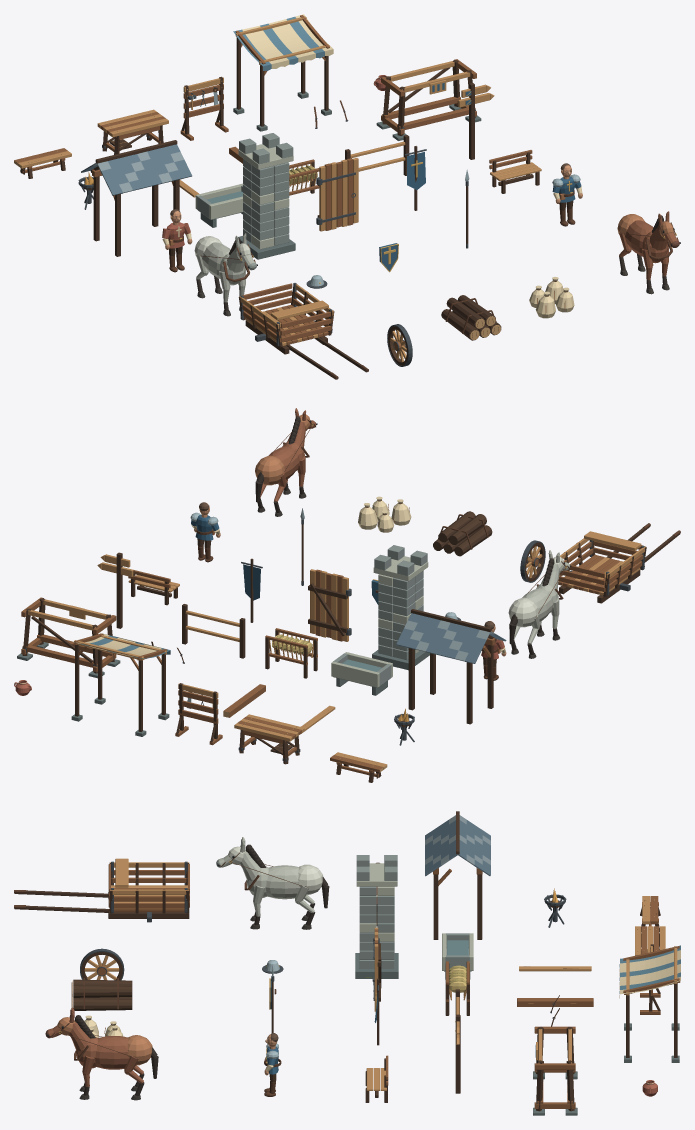
Rendered from MedievalLife_All30.glb.
3 views of the same model, one above another, from view 1: azimuth 30°, elevation 25°; view 2: azimuth 150°, elevation 25°; view 3: azimuth 270°, elevation 25° (orthographic). The views are drawn at different scales.
Visible parts, largest first — view 1: LIB__MedievalLife__gate_pier__structure, LIB__MedievalLife__cart_body__structure, LIB__FreightKit__freight_depot_rack__structure, LIB__MedievalLife__watch_shelter__finish, LIB__MarketLifeKit__linen_canopy__cover, LIB__MedievalLife__gate_leaf__structure, LIB__MedievalLife__horse_bay__structure, LIB__MedievalLife__horse_grey__structure, LIB__MarketLifeKit__linen_canopy__structure, LIB__MedievalLife__watch_shelter__structure, LIB__MarketLifeKit__work_table__structure, LIB__MarketLifeKit__tool_rack__structure (+13 smaller); view 2: LIB__MedievalLife__gate_pier__structure, LIB__MedievalLife__cart_body__structure, LIB__FreightKit__freight_depot_rack__structure, LIB__MedievalLife__watch_shelter__finish, LIB__MedievalLife__gate_leaf__structure, LIB__MarketLifeKit__linen_canopy__structure, LIB__MedievalLife__horse_grey__structure, LIB__MedievalLife__horse_bay__structure, LIB__MedievalLife__watch_shelter__structure, LIB__MarketLifeKit__work_table__structure, LIB__MedievalLife__water_trough__structure, LIB__MedievalLife__cargo_logs__structure (+11 smaller); view 3: LIB__MedievalLife__cart_body__structure, LIB__MedievalLife__gate_pier__structure, LIB__MedievalLife__horse_grey__structure, LIB__MedievalLife__horse_bay__structure, LIB__MedievalLife__watch_shelter__finish, LIB__FreightKit__freight_depot_rack__structure, LIB__MedievalLife__cargo_logs__structure, LIB__MarketLifeKit__linen_canopy__cover, LIB__MarketLifeKit__linen_canopy__structure, LIB__MedievalLife__watch_shelter__structure, LIB__MedievalLife__water_trough__structure, LIB__MarketLifeKit__work_table__structure (+9 smaller).
Part boxes in pixels (x1=…): LIB__MedievalLife__gate_pier__structure: x1=238, y1=133, x2=295, y2=259; LIB__MedievalLife__cart_body__structure: x1=238, y1=283, x2=366, y2=379; LIB__FreightKit__freight_depot_rack__structure: x1=376, y1=59, x2=481, y2=140; LIB__MedievalLife__watch_shelter__finish: x1=81, y1=144, x2=192, y2=195; LIB__MarketLifeKit__linen_canopy__cover: x1=233, y1=14, x2=333, y2=70; LIB__MedievalLife__gate_leaf__structure: x1=317, y1=157, x2=358, y2=231; LIB__MedievalLife__horse_bay__structure: x1=617, y1=211, x2=678, y2=289; LIB__MedievalLife__horse_grey__structure: x1=194, y1=233, x2=255, y2=311; LIB__MarketLifeKit__linen_canopy__structure: x1=233, y1=15, x2=331, y2=131; LIB__MedievalLife__watch_shelter__structure: x1=90, y1=140, x2=179, y2=256; LIB__MarketLifeKit__work_table__structure: x1=97, y1=109, x2=168, y2=154; LIB__MarketLifeKit__tool_rack__structure: x1=180, y1=76, x2=228, y2=140; LIB__MedievalLife__gate_pier__structure: x1=372, y1=545, x2=429, y2=670; LIB__MedievalLife__cart_body__structure: x1=558, y1=524, x2=679, y2=603; LIB__FreightKit__freight_depot_rack__structure: x1=17, y1=597, x2=120, y2=678; LIB__MedievalLife__watch_shelter__finish: x1=396, y1=613, x2=506, y2=663; LIB__MedievalLife__gate_leaf__structure: x1=308, y1=569, x2=348, y2=641; LIB__MarketLifeKit__linen_canopy__structure: x1=71, y1=633, x2=169, y2=736; LIB__MedievalLife__horse_grey__structure: x1=508, y1=550, x2=569, y2=654; LIB__MedievalLife__horse_bay__structure: x1=255, y1=408, x2=315, y2=512; LIB__MedievalLife__watch_shelter__structure: x1=408, y1=609, x2=496, y2=724; LIB__MarketLifeKit__work_table__structure: x1=234, y1=714, x2=304, y2=764; LIB__MedievalLife__water_trough__structure: x1=331, y1=652, x2=392, y2=695; LIB__MedievalLife__cargo_logs__structure: x1=433, y1=511, x2=492, y2=556; LIB__MedievalLife__cart_body__structure: x1=14, y1=858, x2=189, y2=922; LIB__MedievalLife__gate_pier__structure: x1=355, y1=855, x2=398, y2=978; LIB__MedievalLife__horse_grey__structure: x1=219, y1=837, x2=323, y2=925; LIB__MedievalLife__horse_bay__structure: x1=48, y1=1007, x2=152, y2=1096; LIB__MedievalLife__watch_shelter__finish: x1=425, y1=815, x2=490, y2=876; LIB__FreightKit__freight_depot_rack__structure: x1=533, y1=1026, x2=577, y2=1115; LIB__MedievalLife__cargo_logs__structure: x1=73, y1=979, x2=132, y2=1010; LIB__MarketLifeKit__linen_canopy__cover: x1=619, y1=945, x2=680, y2=998; LIB__MarketLifeKit__linen_canopy__structure: x1=623, y1=946, x2=680, y2=1062; LIB__MedievalLife__watch_shelter__structure: x1=433, y1=811, x2=482, y2=939; LIB__MedievalLife__water_trough__structure: x1=442, y1=933, x2=473, y2=979; LIB__MarketLifeKit__work_table__structure: x1=635, y1=926, x2=665, y2=954.
Bounding box in the file's own units: 14.4 × 4.02 × 19.2.
